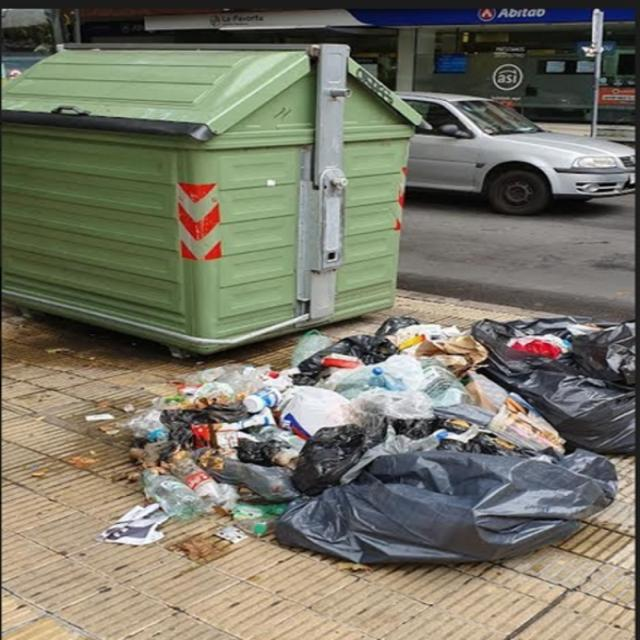garbage: (98, 314, 639, 575)
